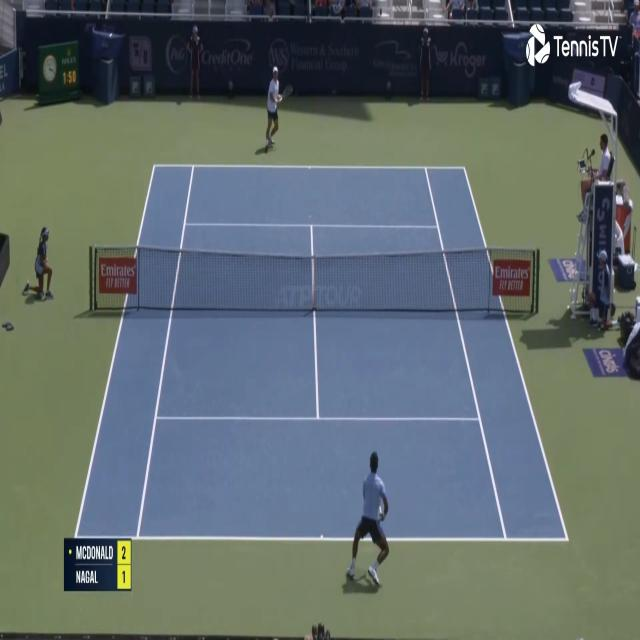tennis-player: (343, 448, 392, 593), (263, 64, 293, 154)
